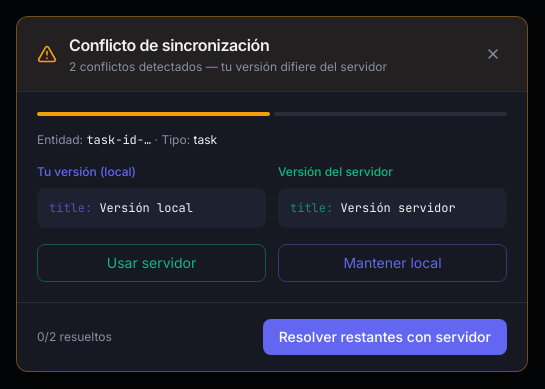
it: ConflictModal — múltiples conflictos › avanza al siguiente conflicto tras resolver el primero
This screenshot has width=545, height=389.
Click the button "Usar servidor": (152, 263) x1=37 y1=244 x2=266 y2=282
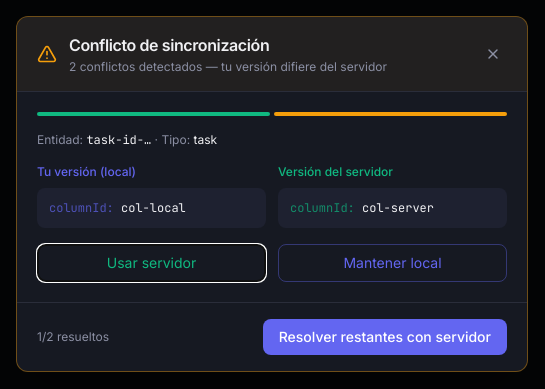
Check: the text "col-local" is shown, box x1=121 y1=200 x2=186 y2=216
